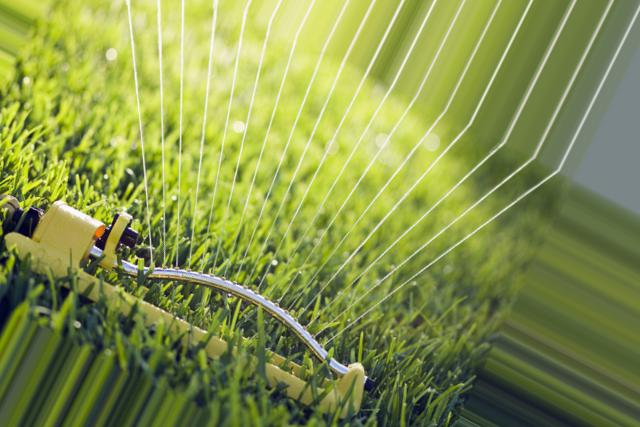patch: (32, 111, 61, 128)
